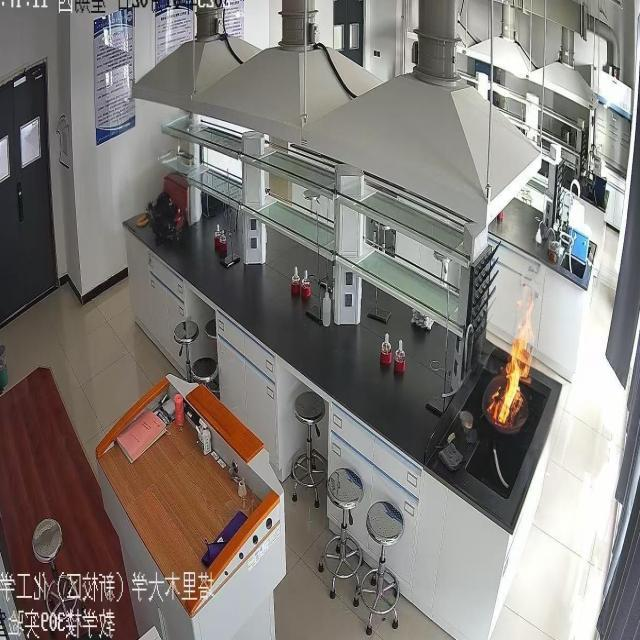smoke: (486, 291, 536, 431)
